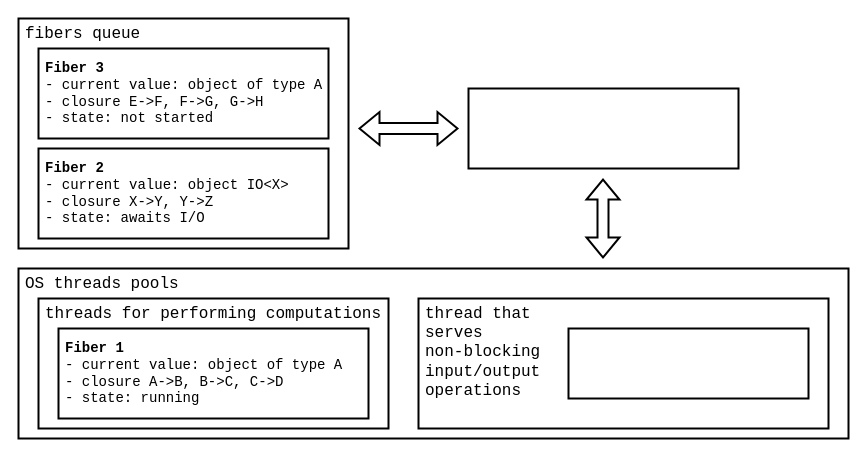
Some shapes in this 866 by 456 pixel diagram are drawn without their labels. Here are the shapes that lost their labels. From the top down, the centre of each, then its label:
At point (603, 128): "scheduler".
At point (688, 363): "input/output operation IO<X> for fiber 2".
